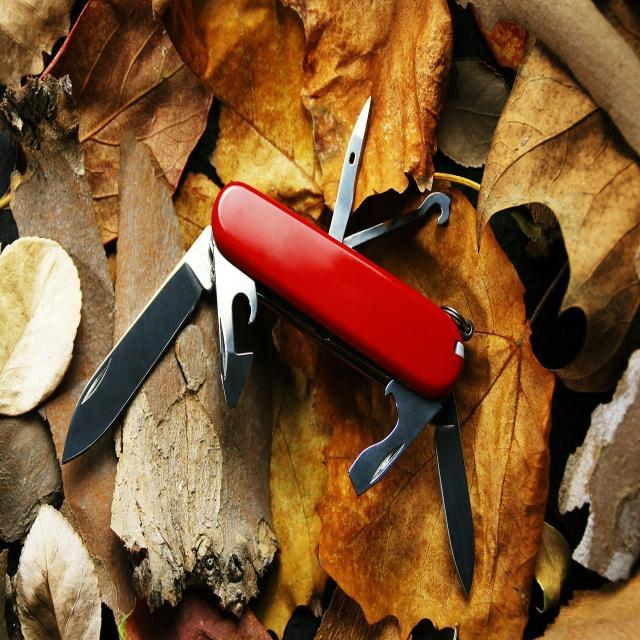Knife: (62, 100, 475, 592)
